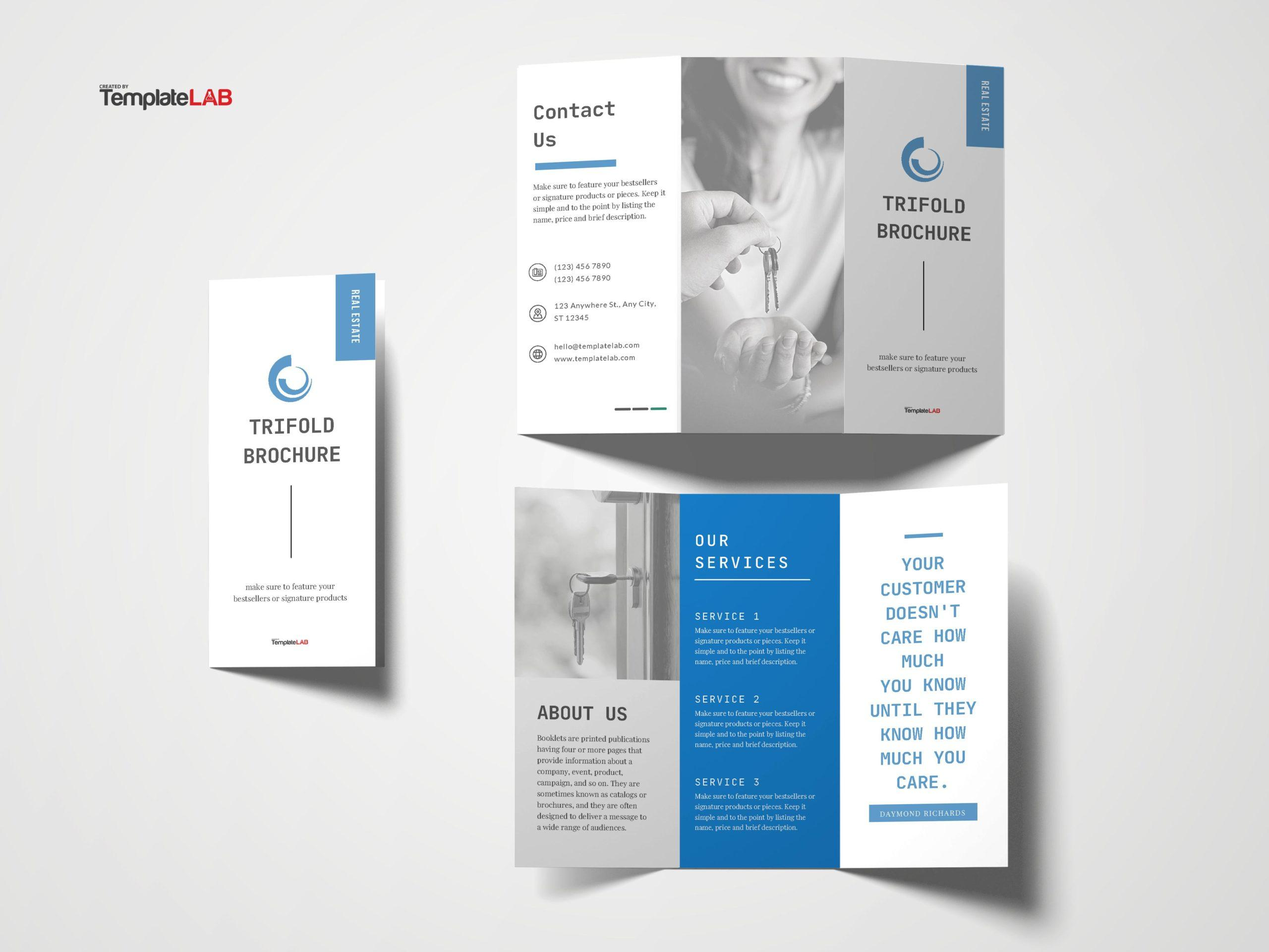paper: (515, 485, 1010, 870), (517, 55, 1006, 435), (208, 272, 382, 667)
